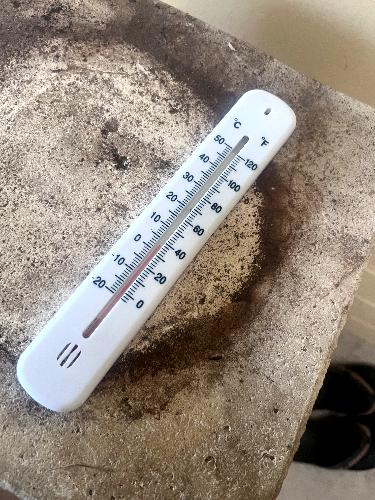thermo: (8, 75, 315, 421)
